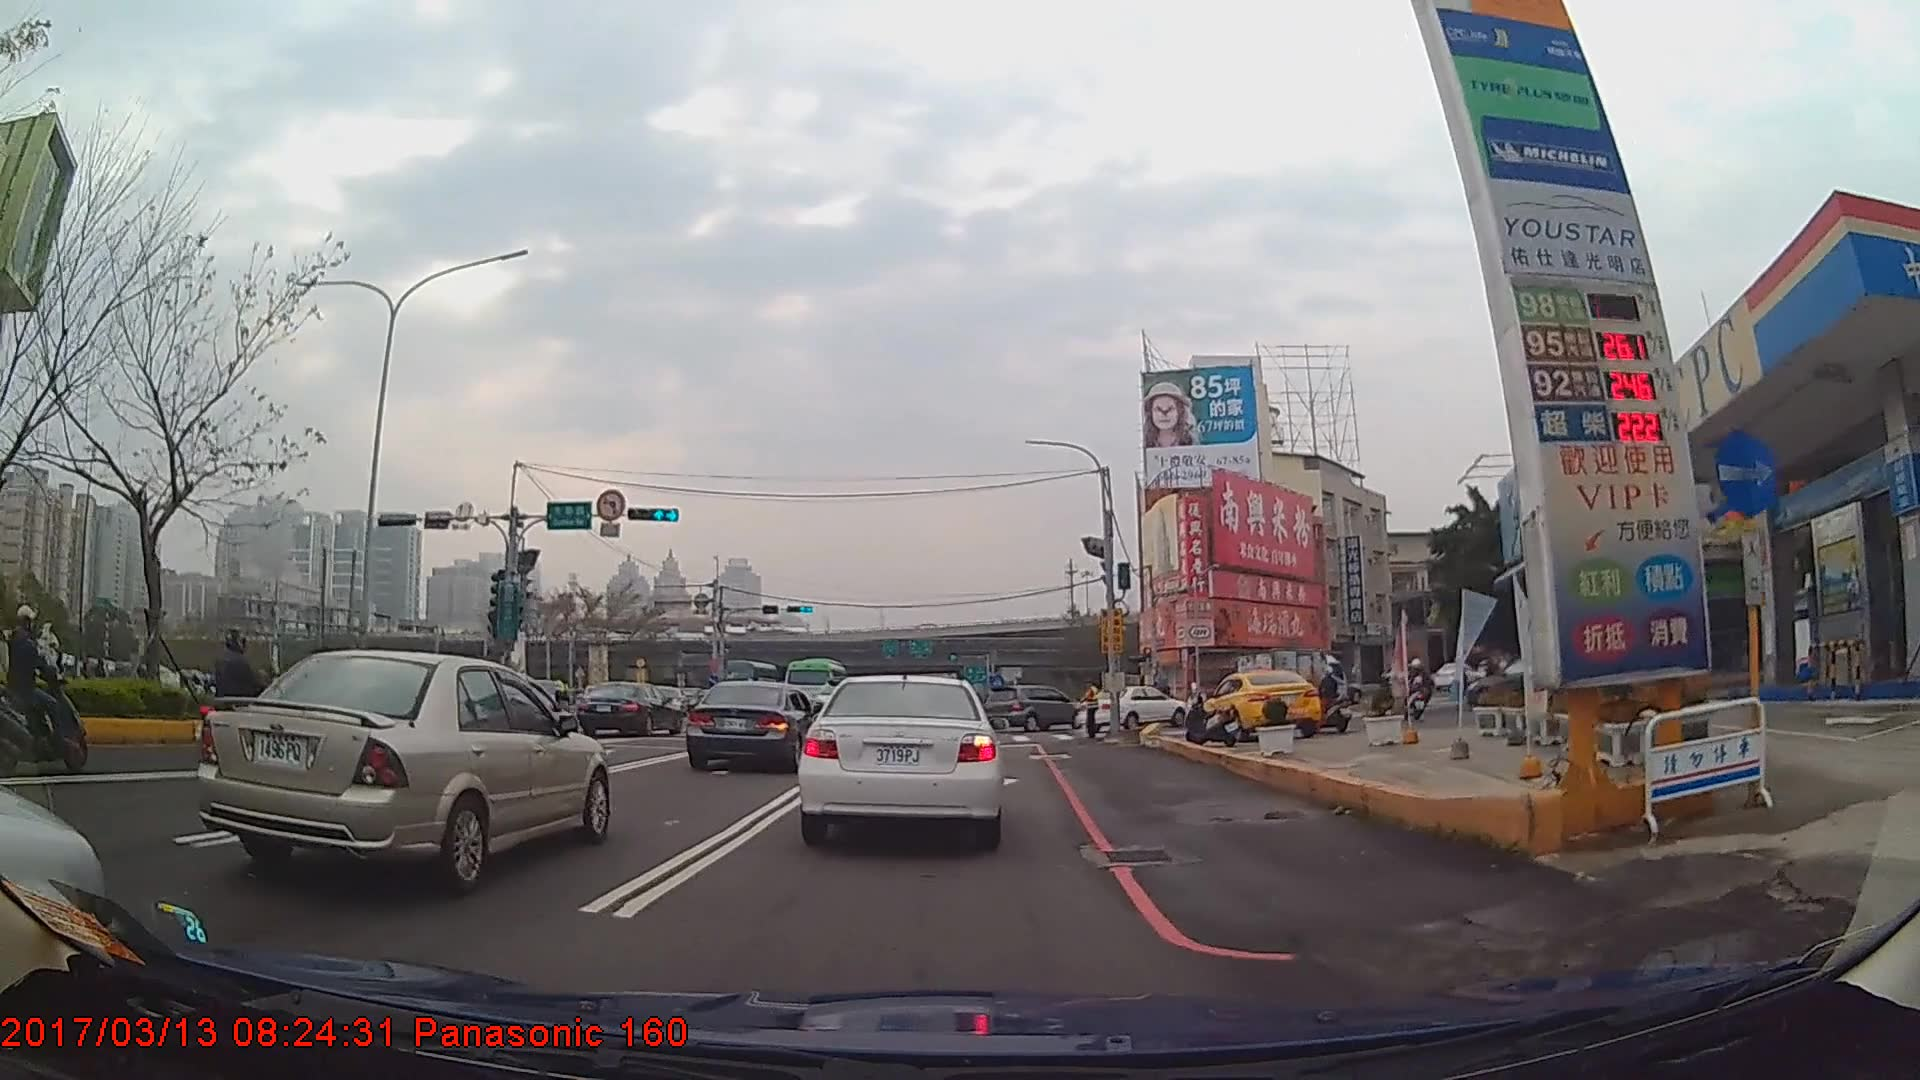pedestrian: (1074, 680, 1101, 740)
rider: (188, 627, 279, 781), (7, 607, 86, 779), (1310, 666, 1352, 736), (1402, 658, 1429, 722)
vehicle: (200, 647, 610, 895), (800, 667, 1002, 847), (683, 680, 821, 772), (1197, 667, 1322, 738), (1230, 646, 1347, 714), (574, 680, 679, 734), (1077, 681, 1187, 729), (984, 683, 1083, 729), (781, 656, 850, 713)
